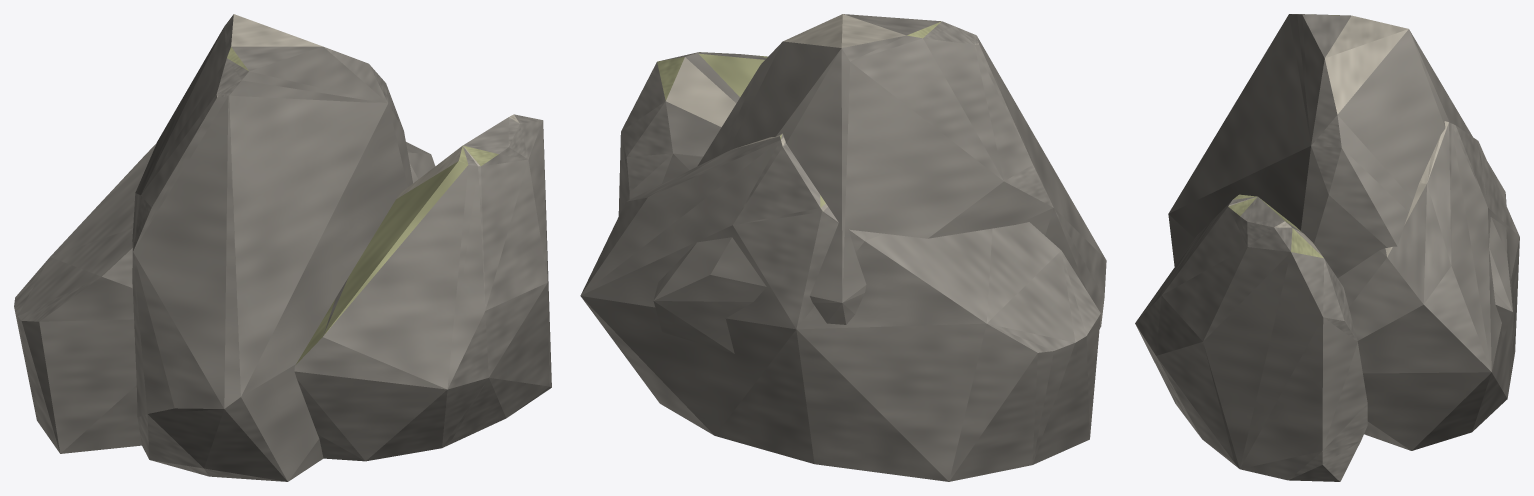
The model's file is rock_large_04.fbx.
The picture shows the model from 3 angles, left to right: view 1: azimuth 30°, elevation 25°; view 2: azimuth 150°, elevation 25°; view 3: azimuth 270°, elevation 25°; orthographic projection. The views are drawn at different scales.
Visible parts, largest first — view 1: rock_large_04; view 2: rock_large_04; view 3: rock_large_04.
Part boxes in pixels (left/top/right/bottom): rock_large_04: left=14, top=14, right=551, bottom=481; rock_large_04: left=580, top=14, right=1106, bottom=481; rock_large_04: left=1135, top=14, right=1519, bottom=481.
Size of the model in its own units: 4.07 by 2.84 by 2.94.
